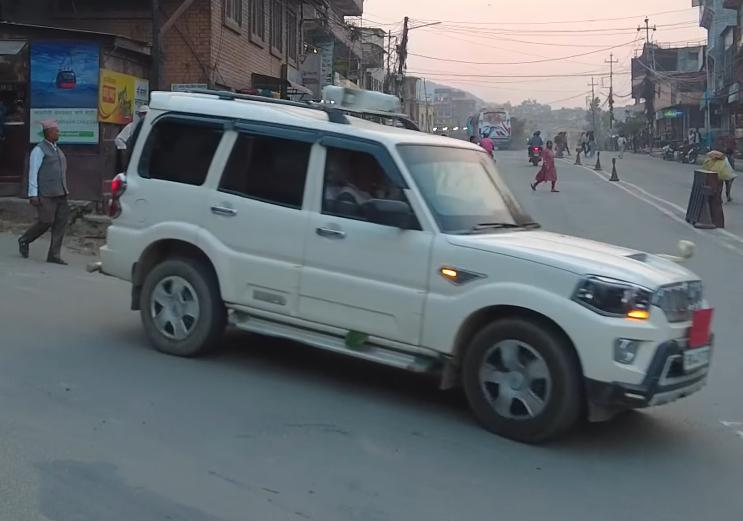SUV: (108, 71, 718, 447)
